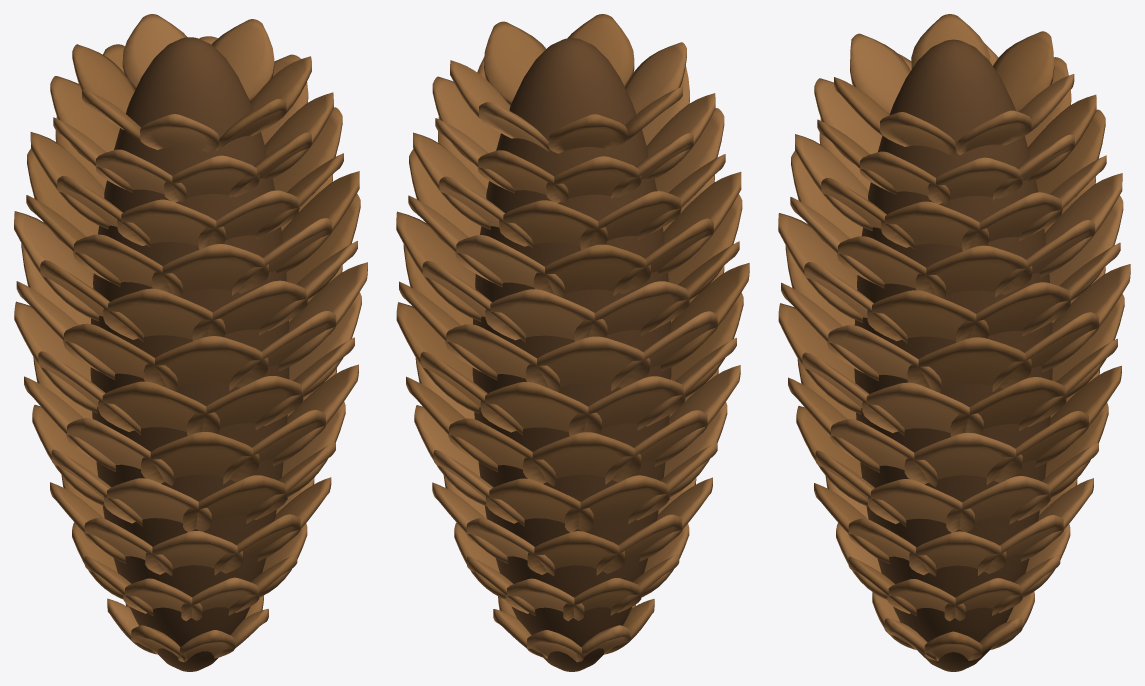
File: A-NEW-20261027-PINECONE-001_LOD0_R1.glb
3 renders of one model, left to right at view 1: azimuth 30°, elevation 25°; view 2: azimuth 150°, elevation 25°; view 3: azimuth 270°, elevation 25°, orthographic.
Parts seen in each view (by area): view 1: closed central woody core, anchored overlapping woody scale 055, anchored overlapping woody scale 063, anchored overlapping woody scale 046, anchored overlapping woody scale 038, anchored overlapping woody scale 072, anchored overlapping woody scale 080, anchored overlapping woody scale 047, anchored overlapping woody scale 064, anchored overlapping woody scale 029, anchored overlapping woody scale 061, anchored overlapping woody scale 100 (+61 smaller); view 2: closed central woody core, anchored overlapping woody scale 052, anchored overlapping woody scale 069, anchored overlapping woody scale 043, anchored overlapping woody scale 035, anchored overlapping woody scale 078, anchored overlapping woody scale 086, anchored overlapping woody scale 044, anchored overlapping woody scale 061, anchored overlapping woody scale 099, anchored overlapping woody scale 026, anchored overlapping woody scale 067 (+61 smaller); view 3: closed central woody core, anchored overlapping woody scale 058, anchored overlapping woody scale 066, anchored overlapping woody scale 049, anchored overlapping woody scale 041, anchored overlapping woody scale 075, anchored overlapping woody scale 083, anchored overlapping woody scale 050, anchored overlapping woody scale 102, anchored overlapping woody scale 067, anchored overlapping woody scale 097, anchored overlapping woody scale 032 (+62 smaller).
Boxes of the visible parts, x1,y1,x2,y2 form: closed central woody core: [90, 37, 289, 671]; anchored overlapping woody scale 055: [143, 336, 268, 387]; anchored overlapping woody scale 063: [103, 288, 225, 339]; anchored overlapping woody scale 046: [98, 381, 219, 433]; anchored overlapping woody scale 038: [141, 432, 259, 483]; anchored overlapping woody scale 072: [152, 244, 268, 293]; anchored overlapping woody scale 080: [117, 199, 225, 246]; anchored overlapping woody scale 047: [187, 376, 303, 435]; anchored overlapping woody scale 064: [192, 280, 307, 341]; anchored overlapping woody scale 029: [104, 478, 211, 531]; anchored overlapping woody scale 061: [14, 211, 98, 321]; anchored overlapping woody scale 100: [211, 19, 274, 102]; closed central woody core: [472, 38, 671, 671]; anchored overlapping woody scale 052: [526, 336, 650, 388]; anchored overlapping woody scale 069: [485, 289, 607, 340]; anchored overlapping woody scale 043: [480, 382, 601, 434]; anchored overlapping woody scale 035: [523, 432, 641, 483]; anchored overlapping woody scale 078: [534, 244, 650, 294]; anchored overlapping woody scale 086: [499, 200, 607, 246]; anchored overlapping woody scale 044: [569, 376, 685, 435]; anchored overlapping woody scale 061: [574, 281, 689, 341]; anchored overlapping woody scale 099: [484, 21, 545, 105]; anchored overlapping woody scale 026: [486, 478, 593, 531]; anchored overlapping woody scale 067: [396, 211, 481, 321]; closed central woody core: [854, 39, 1052, 671]; anchored overlapping woody scale 058: [907, 337, 1031, 388]; anchored overlapping woody scale 066: [867, 290, 988, 340]; anchored overlapping woody scale 049: [862, 382, 983, 434]; anchored overlapping woody scale 041: [904, 432, 1022, 484]; anchored overlapping woody scale 075: [915, 245, 1032, 295]; anchored overlapping woody scale 083: [881, 201, 988, 247]; anchored overlapping woody scale 050: [950, 377, 1066, 436]; anchored overlapping woody scale 102: [993, 31, 1054, 111]; anchored overlapping woody scale 067: [956, 282, 1070, 342]; anchored overlapping woody scale 097: [850, 33, 910, 114]; anchored overlapping woody scale 032: [868, 479, 974, 532].
Size of the model in its own units: 0.0886 by 0.174 by 0.0887.
